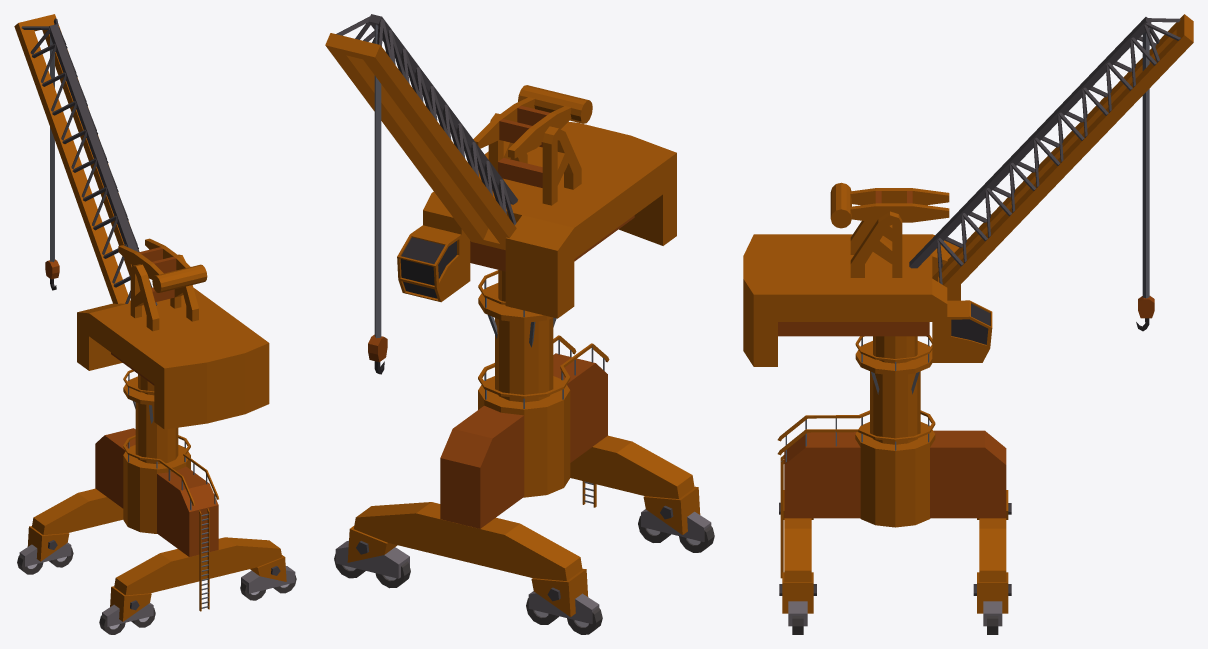
File: Crane_01.fbx
3 renders of one model, left to right at view 1: azimuth 30°, elevation 25°; view 2: azimuth 150°, elevation 25°; view 3: azimuth 270°, elevation 25°, orthographic. The views are drawn at different scales.
Parts seen in each view (by area): view 1: Crane_Cab_01, Crane_Base_01; view 2: Crane_Cab_01, Crane_Base_01; view 3: Crane_Cab_01, Crane_Base_01.
Part boxes in pixels (<box>): Crane_Cab_01: <box>14,14,269,429</box>; Crane_Base_01: <box>17,369,296,634</box>; Crane_Cab_01: <box>325,14,676,374</box>; Crane_Base_01: <box>334,270,714,634</box>; Crane_Cab_01: <box>743,14,1193,366</box>; Crane_Base_01: <box>777,335,1011,634</box>.
Bounding box in the file's own units: 17.47 × 41.54 × 29.91.
